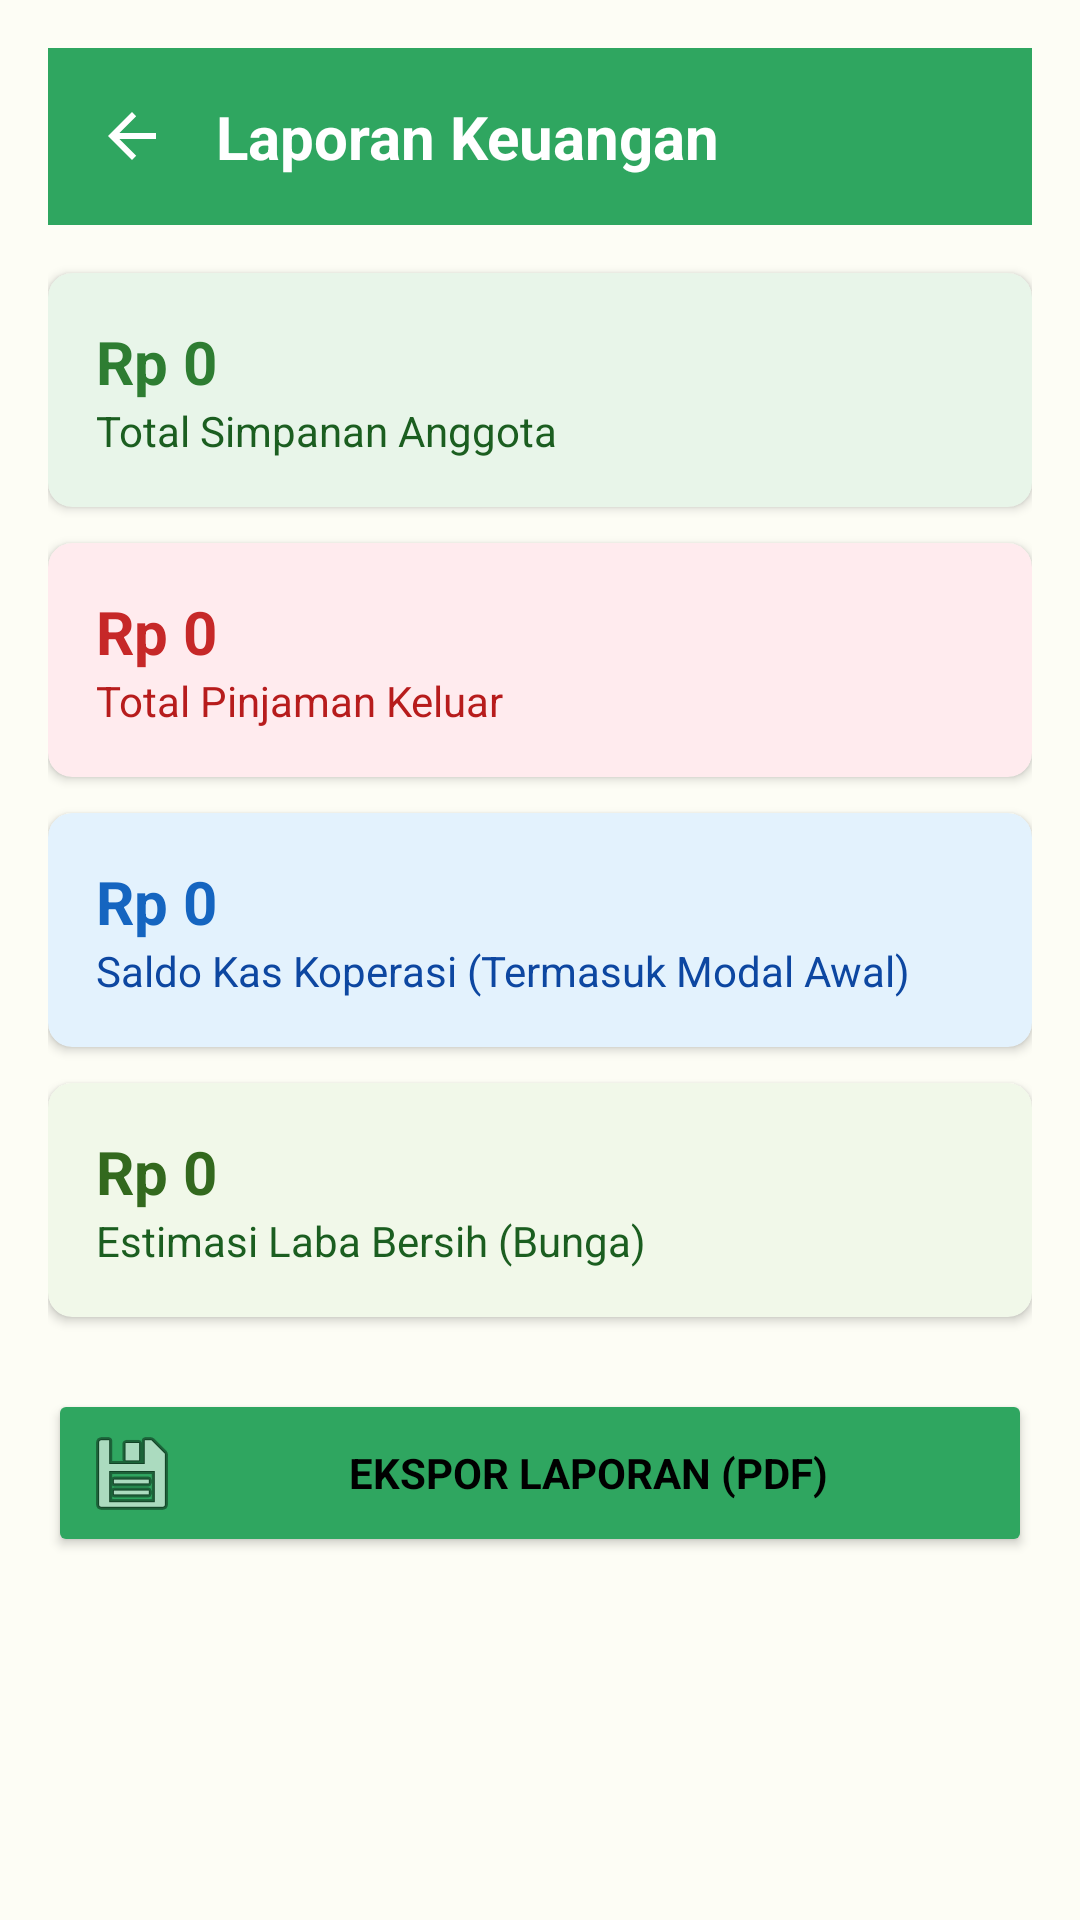

Icons on this 1080*1920 Android screen, each with its box as (x1, y1, x2, y2):
ab back: (108, 112, 156, 160)
